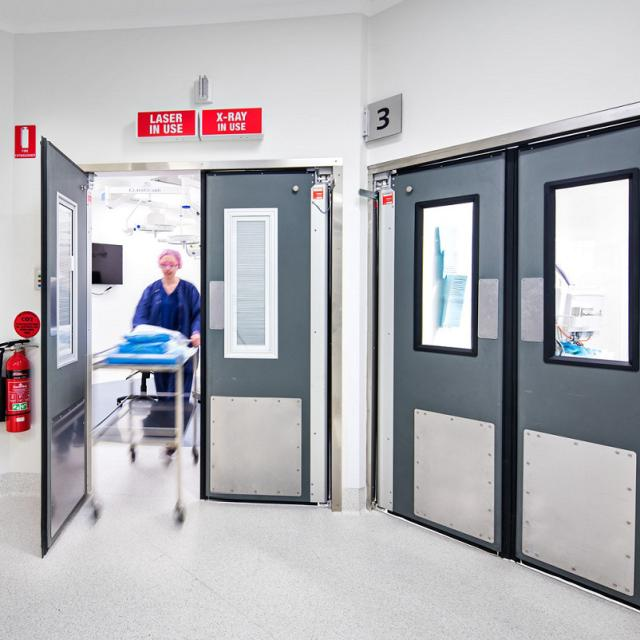door: (366, 103, 639, 611), (42, 138, 344, 557)
